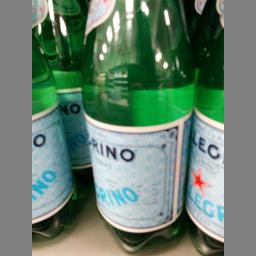water: (82, 0, 196, 253)
